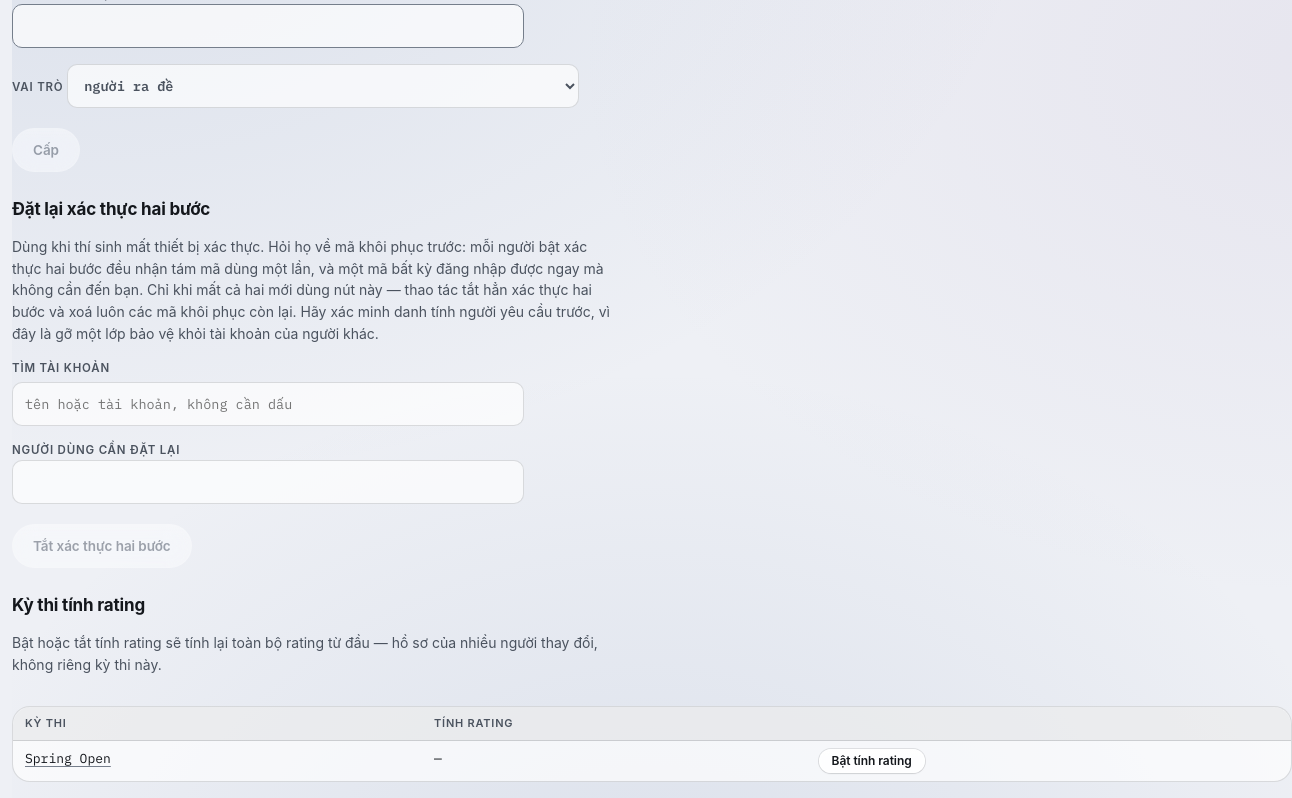
Test: AdminPage write handlers (M11) › surfaces a connection failure on the rating replay
(page scrolled)
Click the button "Bật tính rating" at x=872, y=761, box [819,749,925,773]
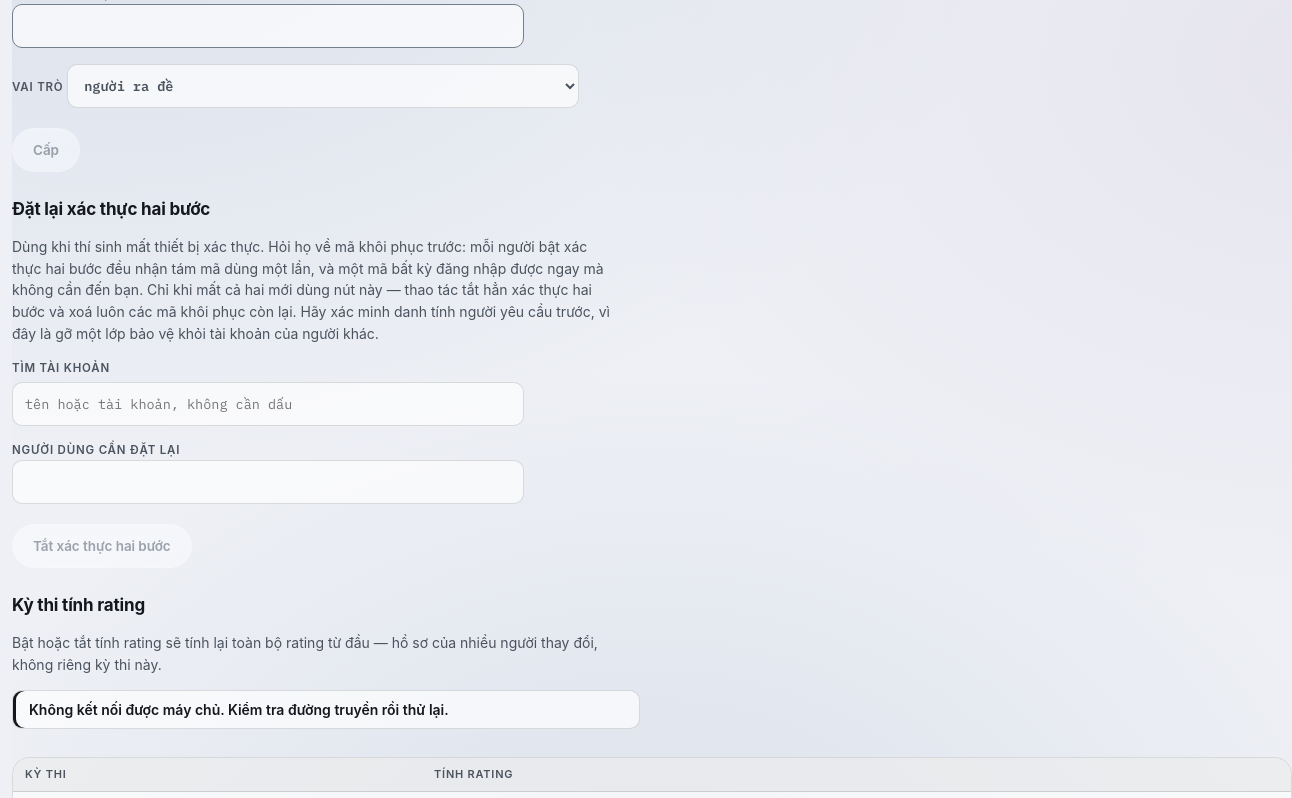
expect the message shows "Không kết nối được": met, box [29,701,449,718]
